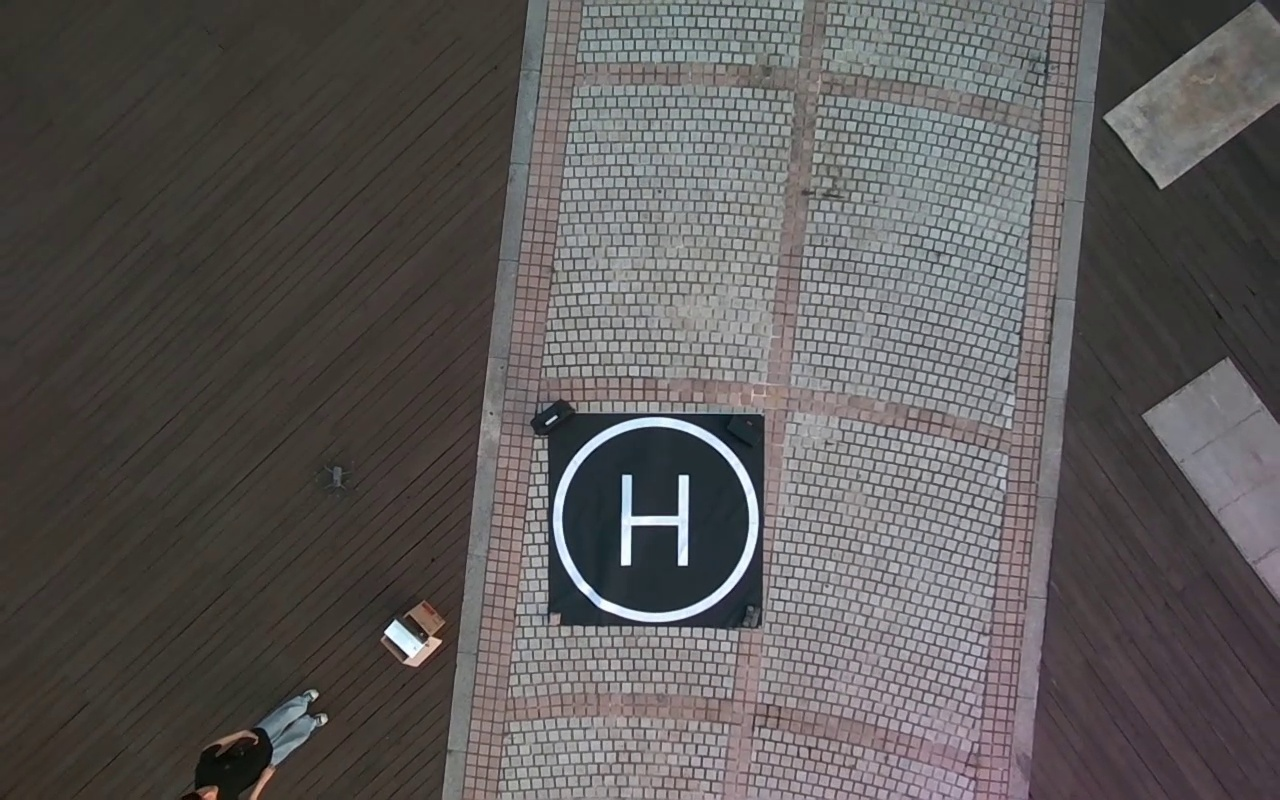H: (618, 473, 692, 568)
heliport: (552, 418, 760, 623)
